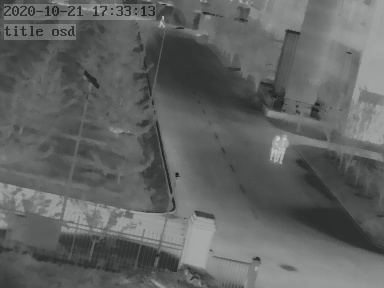person: (278, 134, 289, 164), (270, 134, 280, 164), (158, 14, 166, 29)
